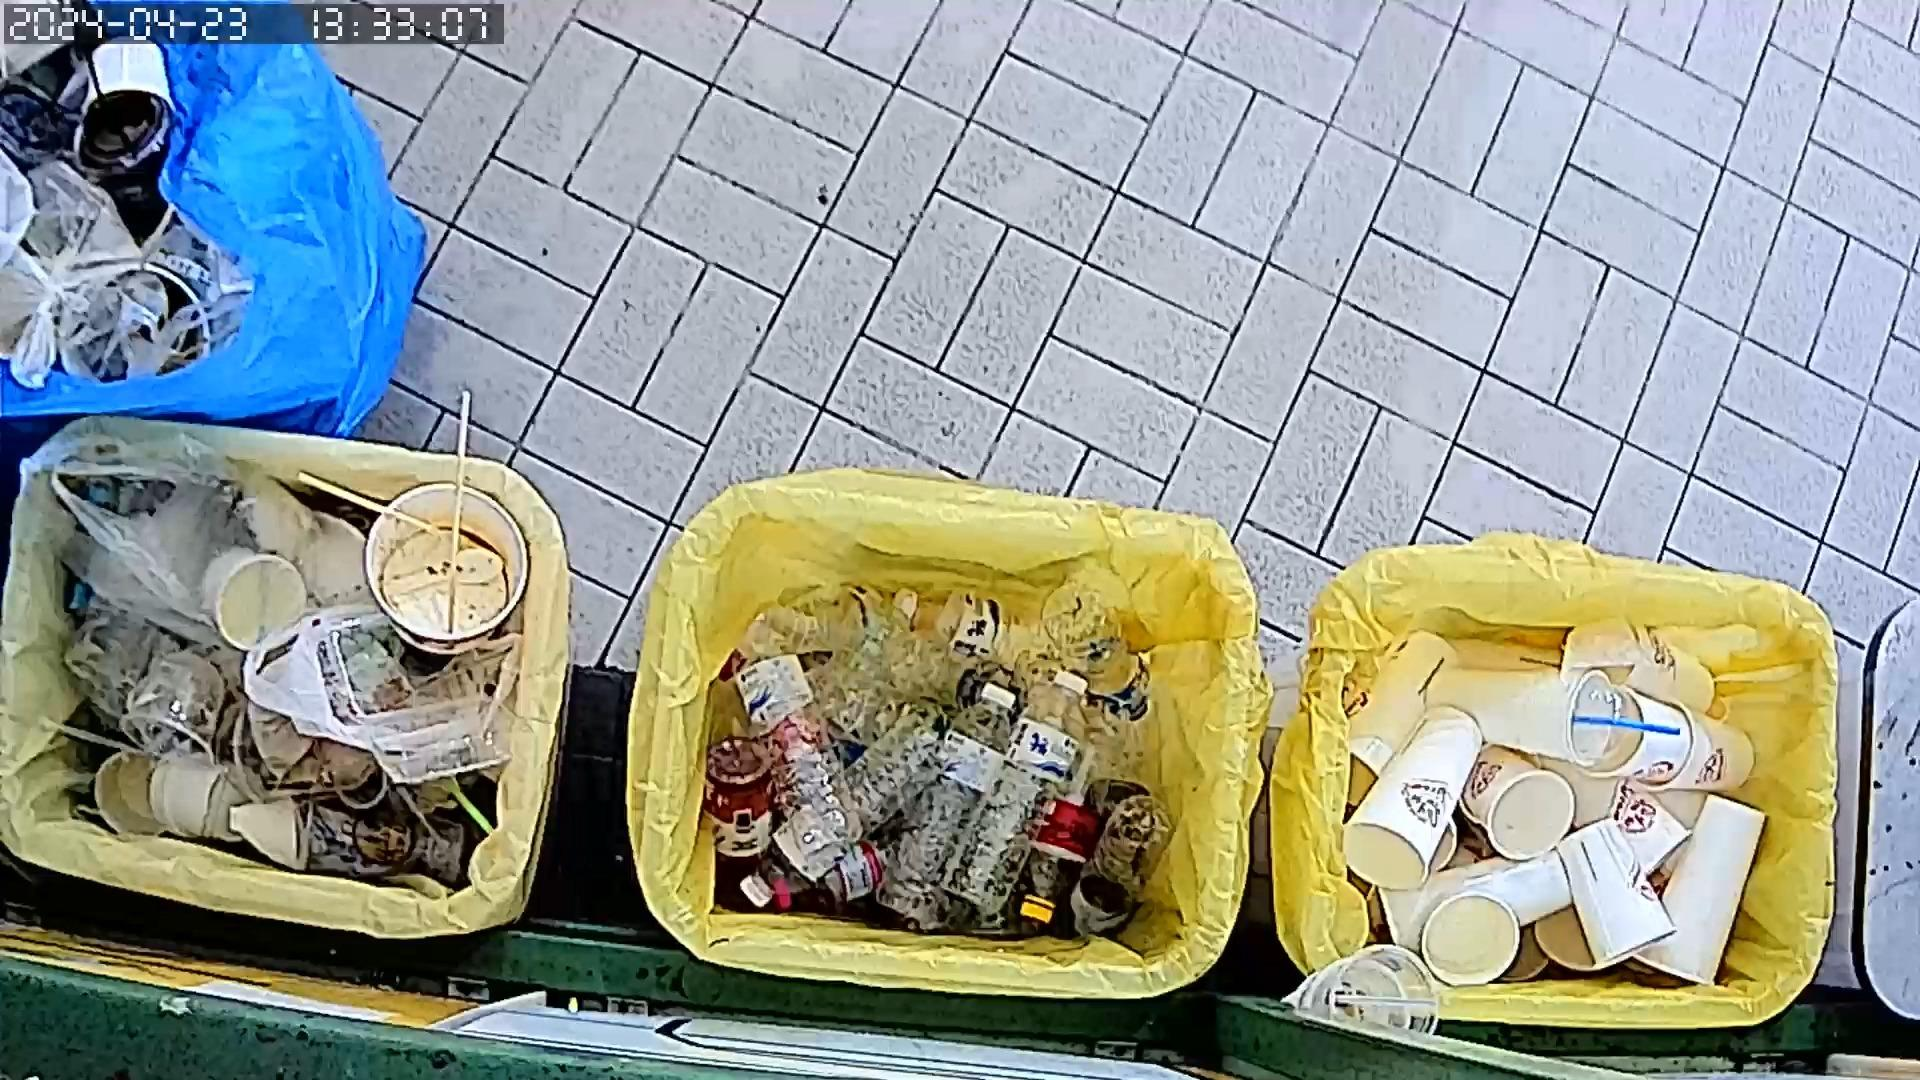can: (711, 736, 771, 861)
filled plastic bag: (16, 426, 330, 662), (243, 600, 531, 786)
food container: (360, 481, 535, 655), (120, 649, 225, 778), (1414, 884, 1526, 993), (94, 749, 171, 845)
plastic bottle: (738, 702, 967, 910), (873, 679, 1021, 923), (728, 605, 868, 858), (945, 669, 1088, 910), (1021, 698, 1124, 928), (1038, 579, 1153, 728), (895, 580, 1058, 678), (1067, 795, 1174, 935)
plastic cup: (306, 794, 462, 886), (1567, 670, 1644, 771)
plastic cutlery: (380, 547, 508, 596)
sticks: (295, 468, 443, 542), (446, 388, 471, 640)
straw: (38, 717, 144, 757), (443, 773, 502, 840), (1575, 716, 1683, 738), (1331, 992, 1445, 1010)
tissue paper: (231, 791, 315, 870)
zero waste cup: (1338, 702, 1491, 887), (1323, 625, 1469, 808), (1636, 786, 1768, 981), (1555, 815, 1685, 978), (1370, 848, 1577, 942), (1419, 669, 1623, 757), (1559, 612, 1726, 716), (1563, 682, 1696, 778), (1465, 745, 1576, 858), (1636, 695, 1758, 798)
